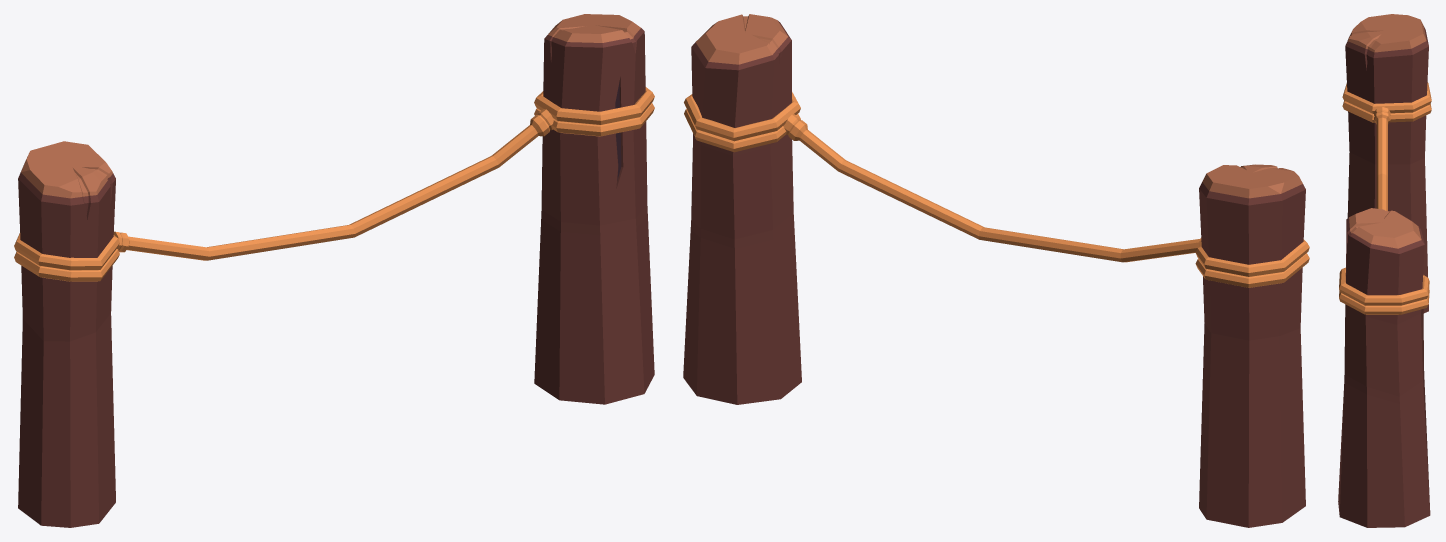
Rendered from Fence Wooden Blunt 02.fbx.
3 views of the same model, side by side, from view 1: azimuth 30°, elevation 25°; view 2: azimuth 150°, elevation 25°; view 3: azimuth 270°, elevation 25° (orthographic). The views are drawn at different scales.
Visible parts, largest first — view 1: Fence Wooden Blunt 02; view 2: Fence Wooden Blunt 02; view 3: Fence Wooden Blunt 02.
Boxes of the visible parts, x1,y1,x2,y2 form: Fence Wooden Blunt 02: (14, 14, 654, 527); Fence Wooden Blunt 02: (683, 14, 1309, 527); Fence Wooden Blunt 02: (1338, 14, 1431, 527).
Bounding box in the file's own units: 200 × 111 × 32.63.
